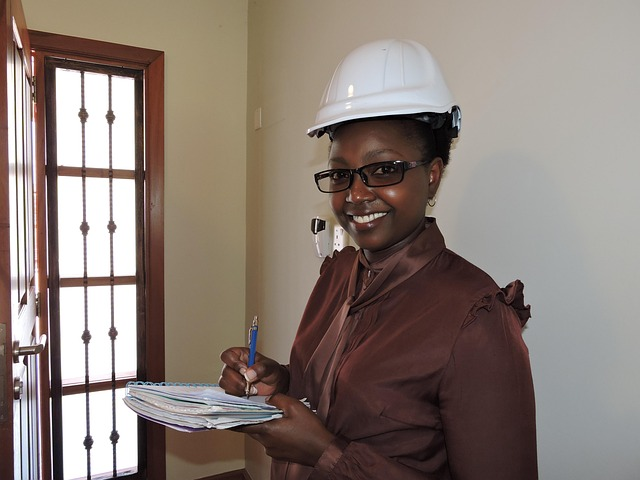Casco de seguridad: (307, 39, 461, 138)
